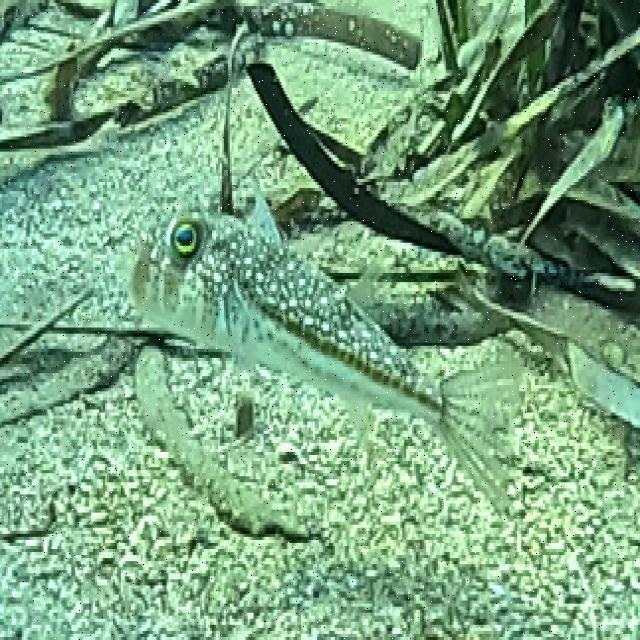Balik: (131, 216, 519, 509)
